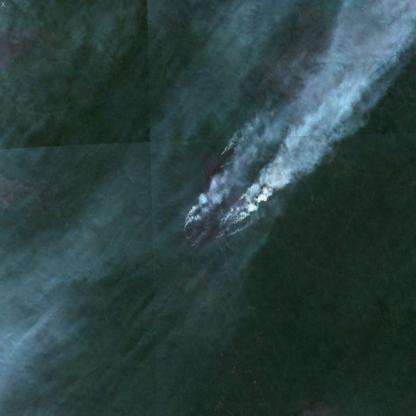fire: (181, 144, 263, 258)
